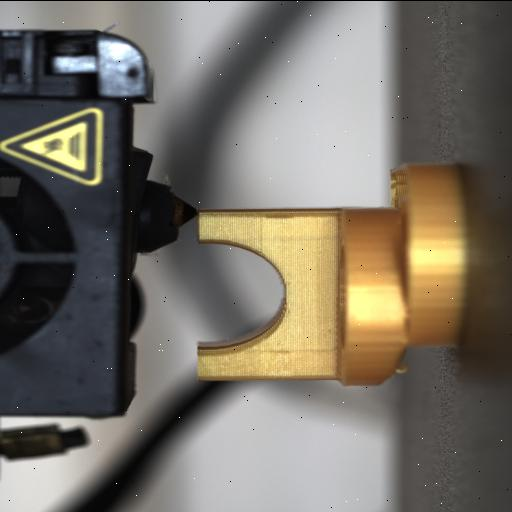layer_shift: (382, 160, 414, 386)
